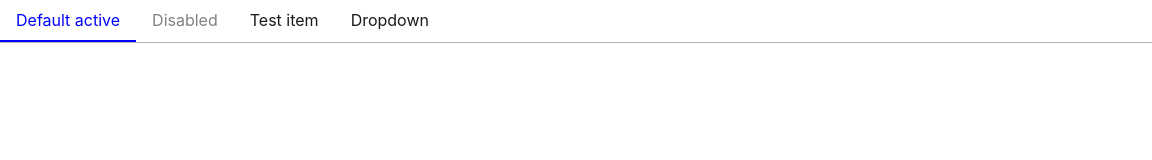
Test: Test Menu & MenuItem component › should show dropdown items when hover on horizontal SubMenu
Expected: the text "Dropdown-1" is not shown
Step 1. Hover over the text "Dropdown" → x=390, y=20, box x1=351 y1=10 x2=429 y2=30
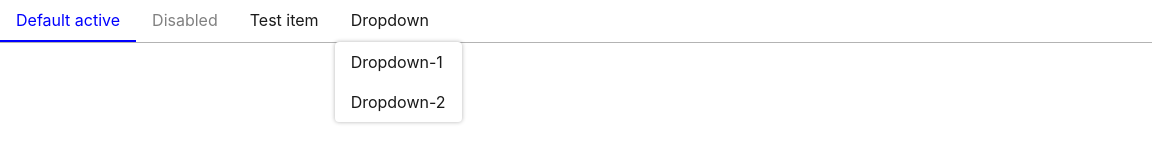
Expected: the list item "Dropdown-1" is shown
Step 2. Click the list item "Dropdown-1" → x=397, y=62, box x1=351 y1=52 x2=443 y2=72
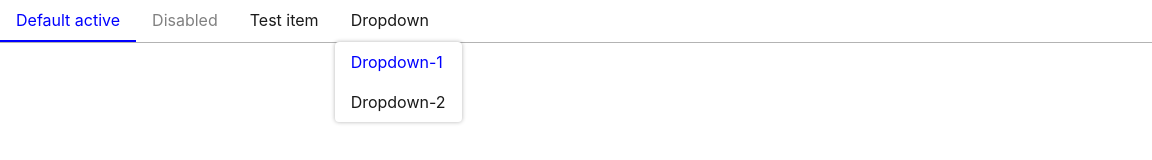
Step 3. Move the pointer off the text "Dropdown", box x1=351 y1=10 x2=429 y2=30
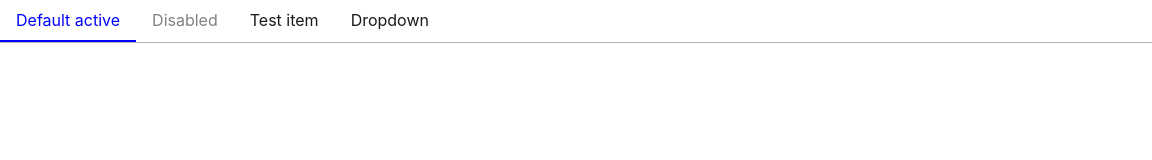
Expected: the list item "Dropdown-1" is gone
